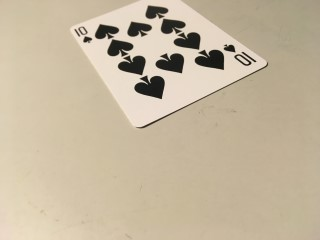TenOfSpades: (70, 1, 268, 127)
